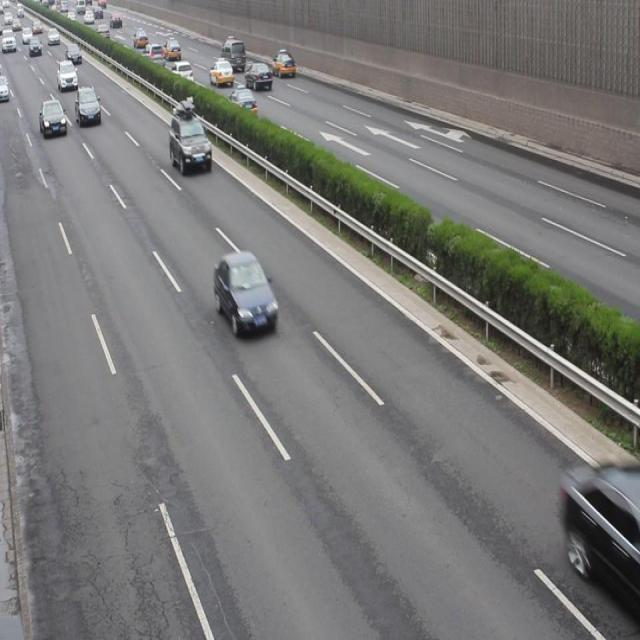car: (213, 250, 277, 339), (169, 101, 211, 175), (39, 98, 68, 139), (75, 84, 102, 128), (226, 86, 256, 118), (245, 59, 272, 92), (208, 59, 233, 87), (270, 51, 294, 78)
